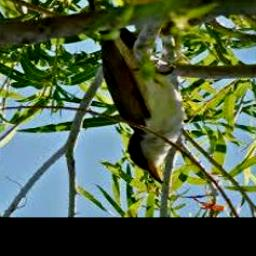Cuckoo: (73, 0, 184, 183)
